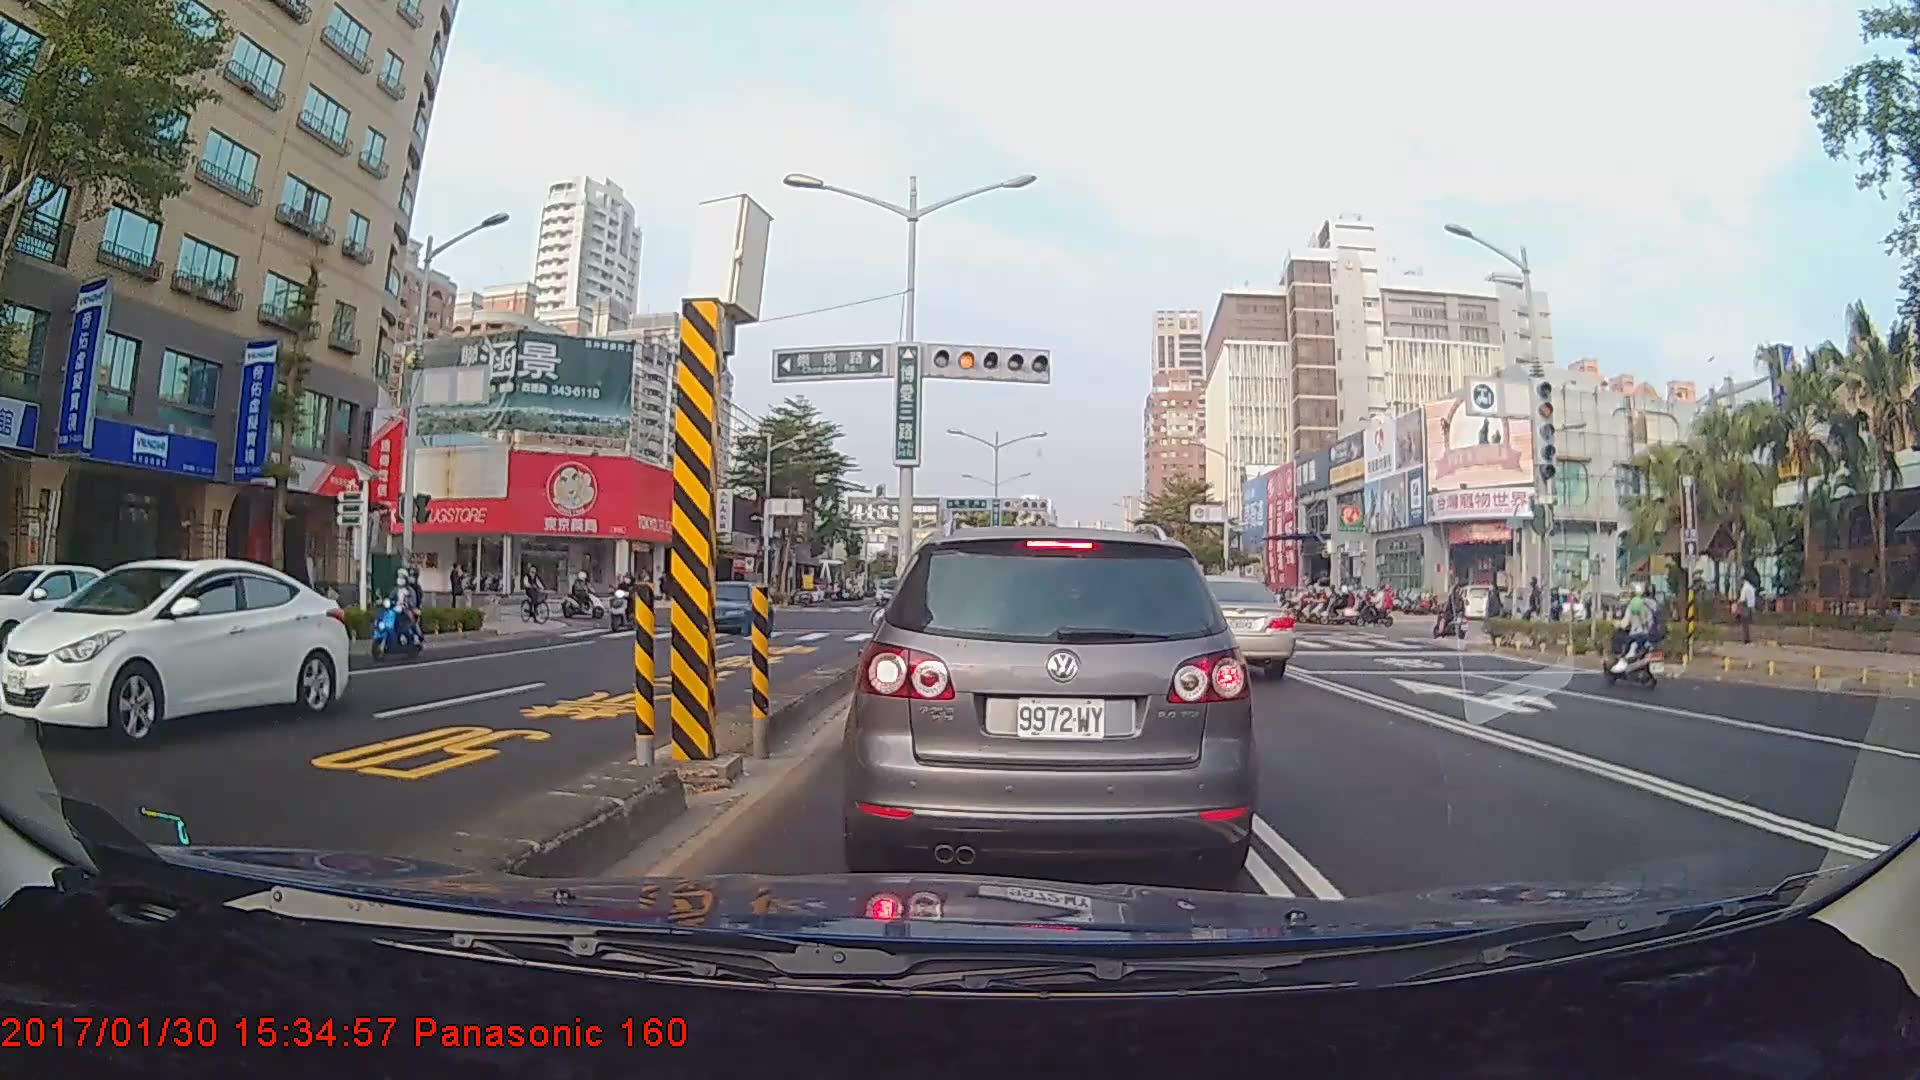pedestrian: (1736, 576, 1760, 643), (447, 563, 467, 620)
rider: (1601, 579, 1678, 692), (380, 573, 434, 659), (562, 566, 609, 619), (1435, 584, 1473, 640), (522, 566, 551, 627)
vehicle: (848, 506, 1254, 872), (0, 557, 349, 747), (0, 564, 158, 677), (1154, 577, 1294, 675), (686, 581, 774, 634)
